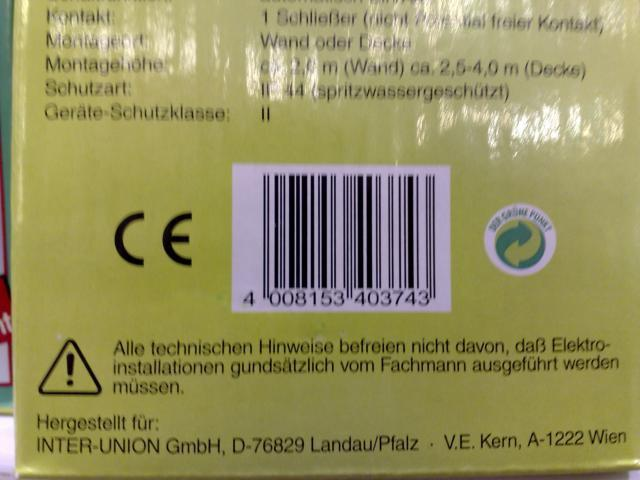Barcode: (231, 163, 450, 313)
